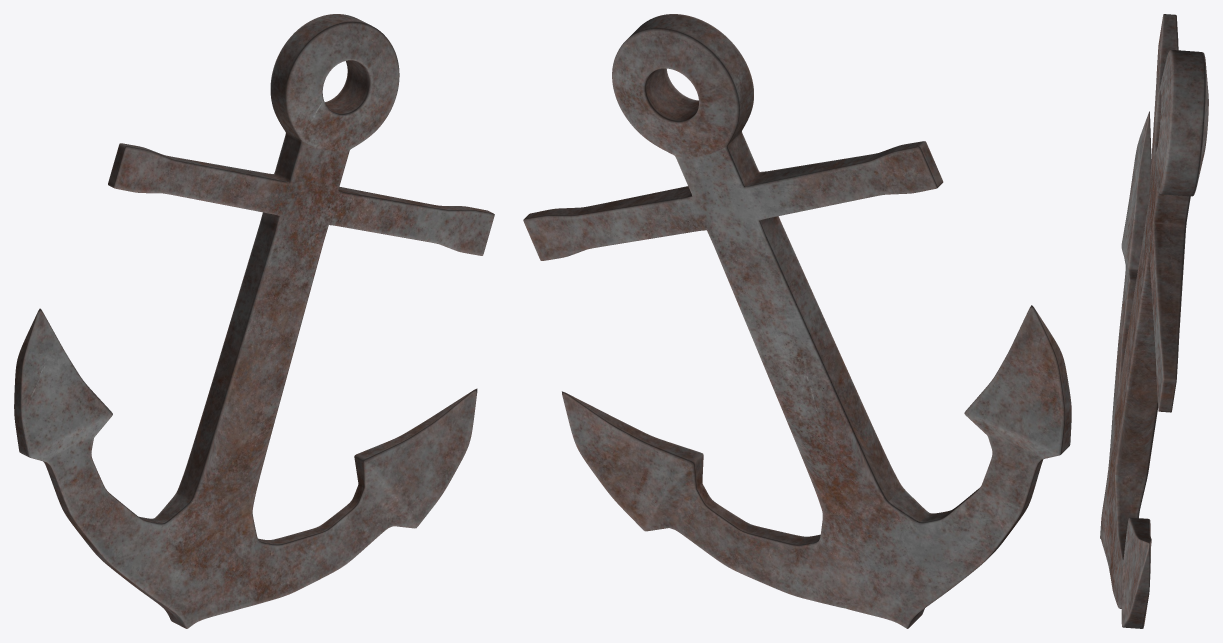
File: noget.fbx
3 renders of one model, left to right at view 1: azimuth 30°, elevation 25°; view 2: azimuth 150°, elevation 25°; view 3: azimuth 270°, elevation 25°, orthographic. The views are drawn at different scales.
Visible parts, largest first — view 1: obj1; view 2: obj1; view 3: obj1.
Boxes of the visible parts, x1,y1,x2,y2 form: obj1: (14, 14, 494, 628); obj1: (523, 14, 1071, 628); obj1: (1100, 14, 1208, 628).
Bounding box in the file's own units: 430 × 452 × 76.47.
